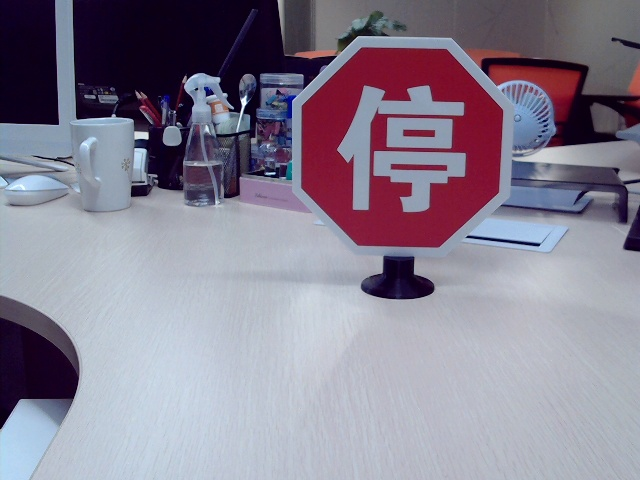stop: (334, 81, 469, 216)
